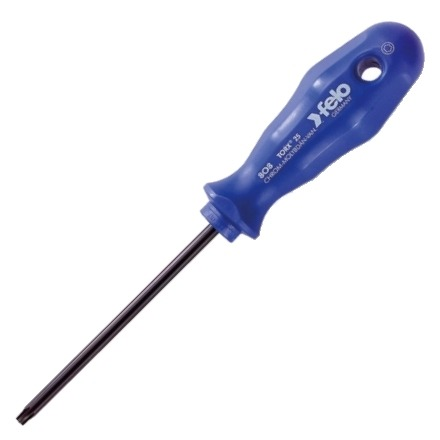screwdriver: (14, 20, 424, 426)
